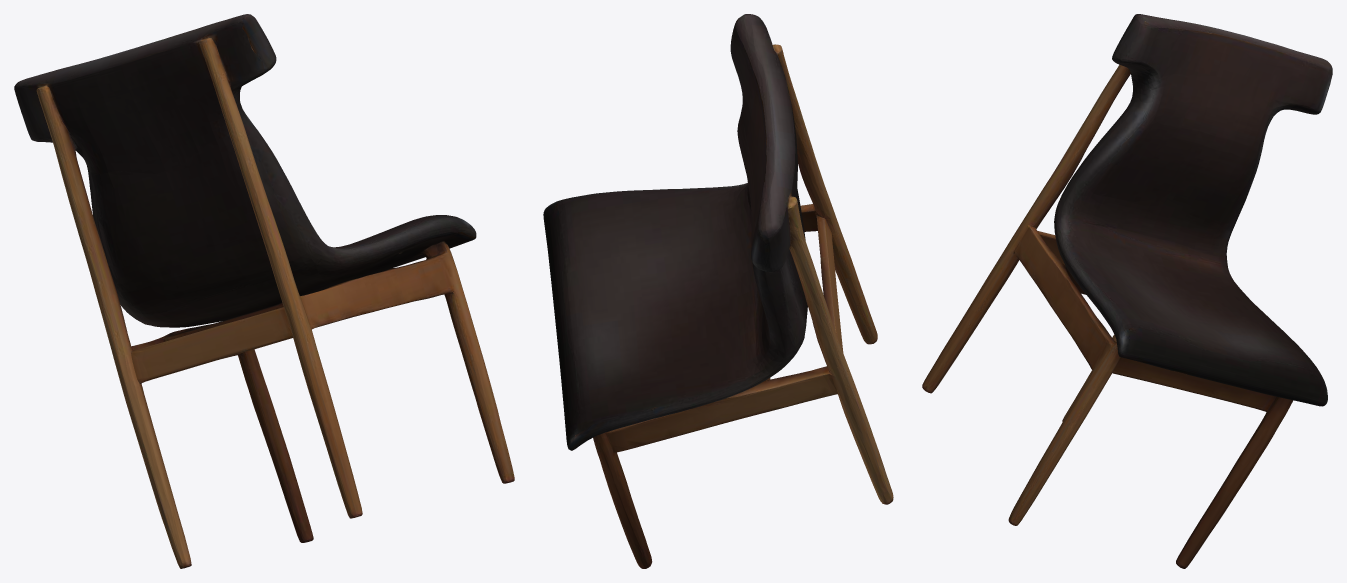
The model's file is dark_brown_leather_chair_on_the_right_000.glb.
3 renders of one model, left to right at view 1: azimuth 30°, elevation 25°; view 2: azimuth 150°, elevation 25°; view 3: azimuth 270°, elevation 25°, orthographic. The views are drawn at different scales.
Parts seen in each view (by area): view 1: dark_brown_leather_chair_on_the_right_000.obj; view 2: dark_brown_leather_chair_on_the_right_000.obj; view 3: dark_brown_leather_chair_on_the_right_000.obj.
Boxes of the visible parts, box(x1,y1,x2,y2) form: dark_brown_leather_chair_on_the_right_000.obj: box(14, 14, 514, 568); dark_brown_leather_chair_on_the_right_000.obj: box(543, 14, 893, 568); dark_brown_leather_chair_on_the_right_000.obj: box(922, 14, 1332, 568).
Size of the model in its own units: 0.5815 by 0.8967 by 0.6475.
1 material, 1 textured.
